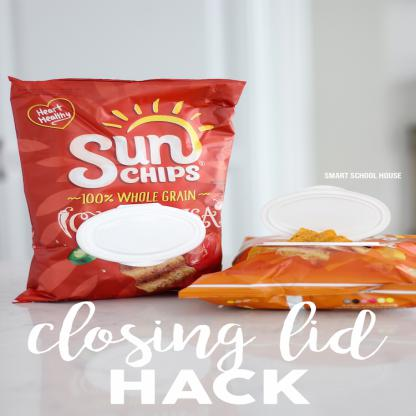potatochip: (0, 70, 254, 307), (172, 219, 416, 311)
